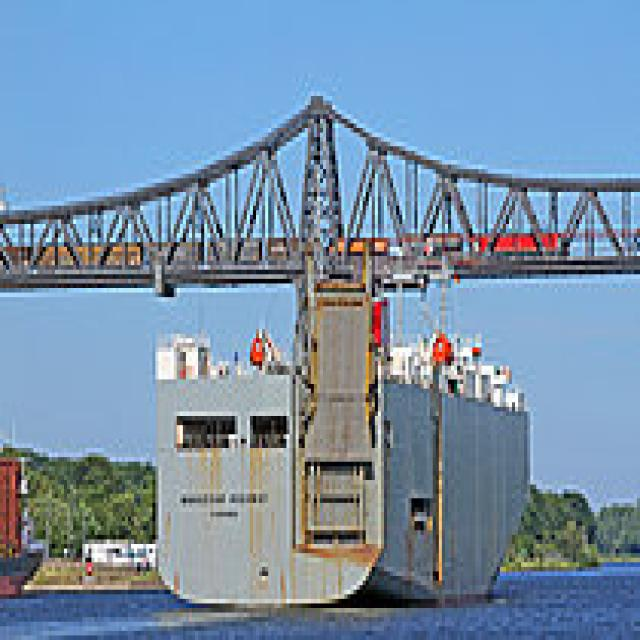Carrier: (147, 233, 530, 617)
